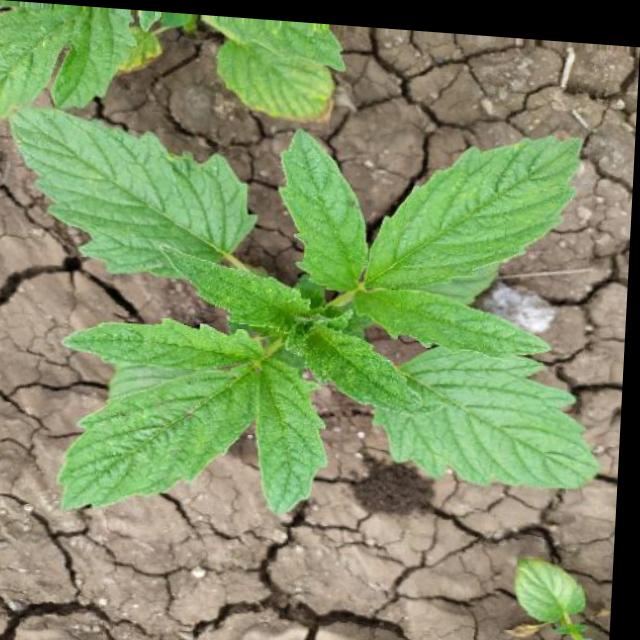crop: (0, 87, 624, 542)
